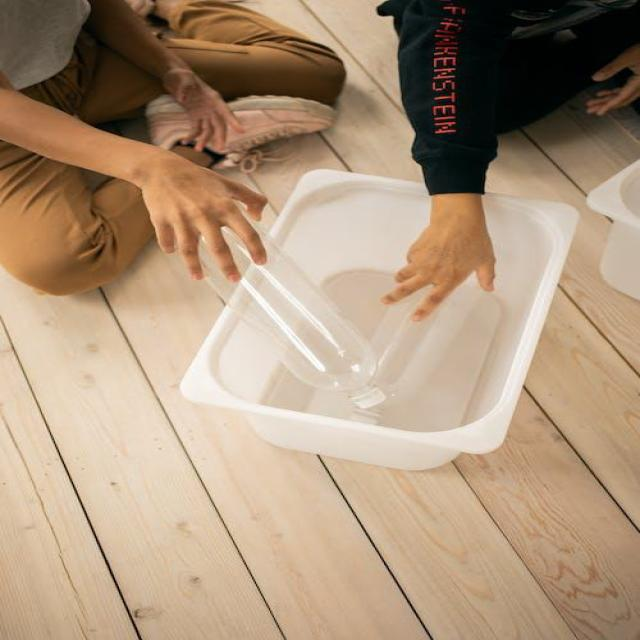plastic: (170, 217, 403, 411)
